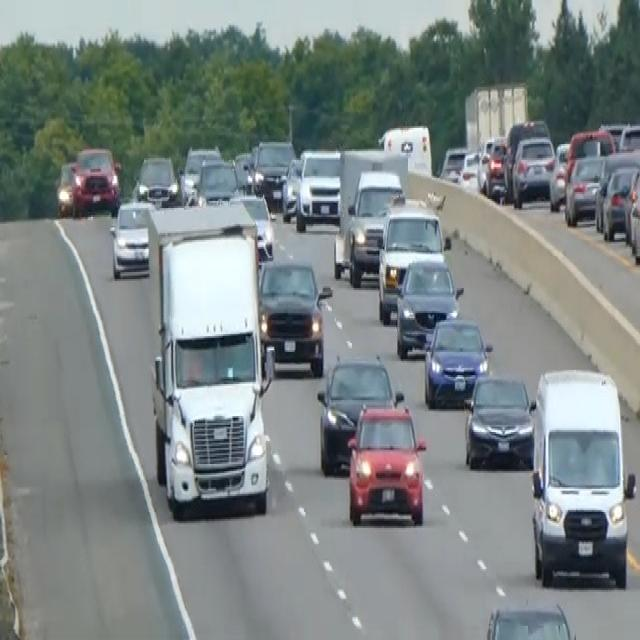car: (316, 352, 403, 475), (346, 400, 427, 526), (376, 198, 448, 324), (257, 256, 331, 377), (394, 254, 463, 359), (462, 370, 535, 469), (422, 313, 492, 409), (295, 146, 342, 231), (109, 196, 156, 279), (483, 599, 578, 638), (71, 144, 120, 215), (228, 190, 274, 263), (511, 134, 556, 206), (564, 151, 606, 226), (251, 137, 295, 208), (599, 164, 638, 242), (133, 151, 179, 206), (180, 142, 222, 199), (194, 156, 239, 204), (477, 135, 508, 197), (548, 138, 570, 210), (280, 154, 302, 220), (55, 158, 78, 217), (626, 164, 639, 263), (440, 142, 469, 183), (232, 148, 255, 192)
lorry: (144, 201, 274, 521)
minibus: (528, 364, 636, 590)
road train: (345, 167, 404, 286)
